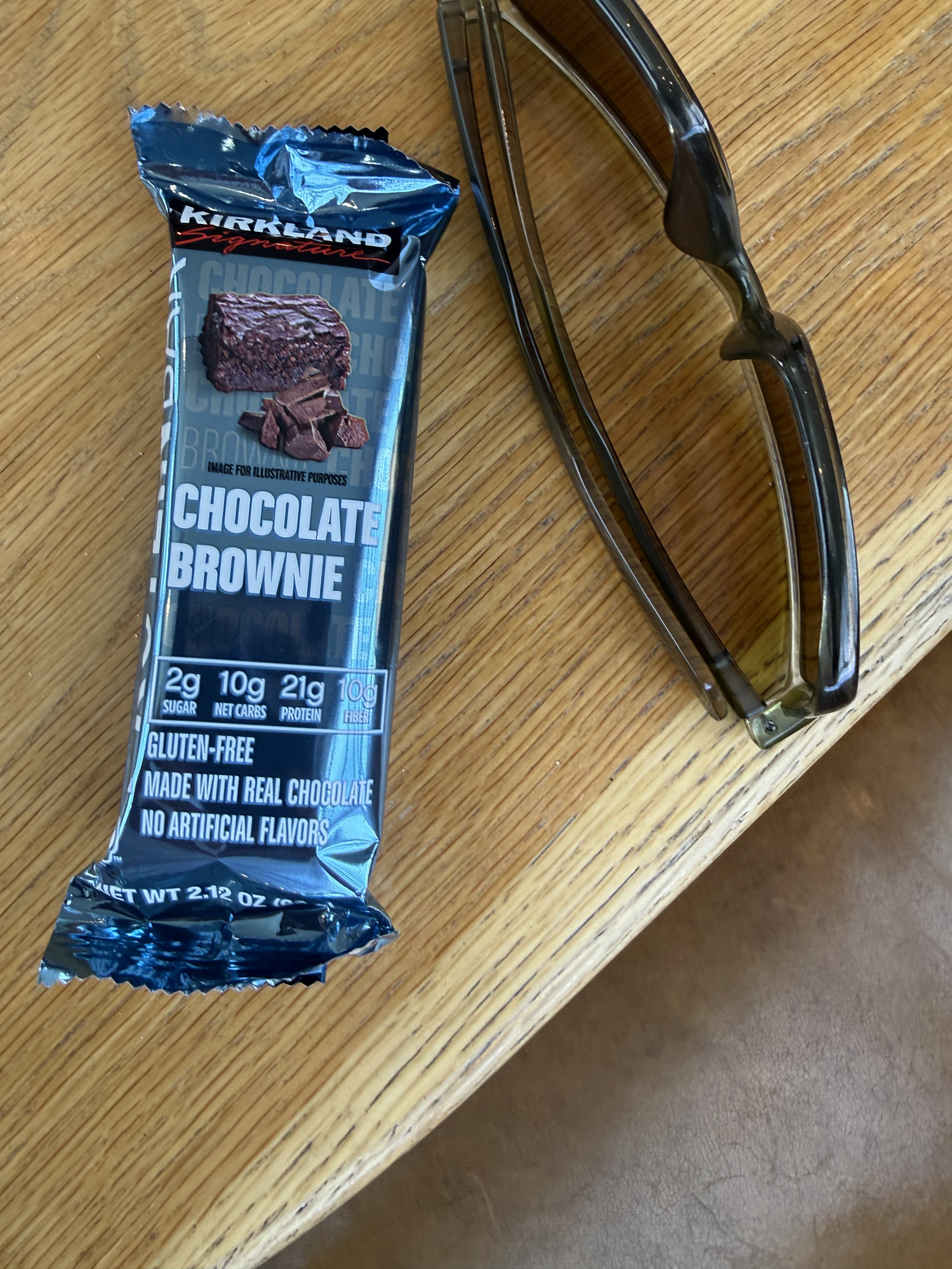chocolate_brownie: (174, 113, 442, 974)
